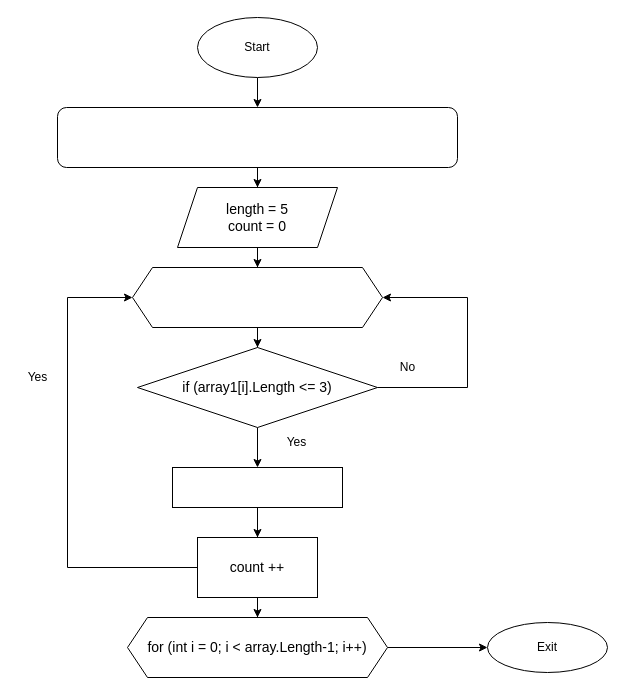
This 625x695 diagram has some shape labels left out. Each missing label, with the box of its shape:
array2[count] = array1[i]: (172, 466, 342, 508)
for (int i = 0; i < array1.Length; i++): (132, 266, 382, 328)
string[] array {"123", "1234", "1567", "-2", "computer science"}: (56, 106, 458, 168)
